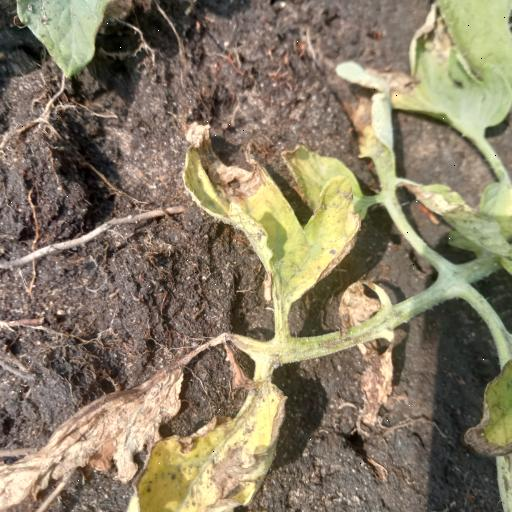Tomato_Brown_Spots: (174, 118, 364, 312), (124, 374, 293, 512), (379, 0, 512, 150)
